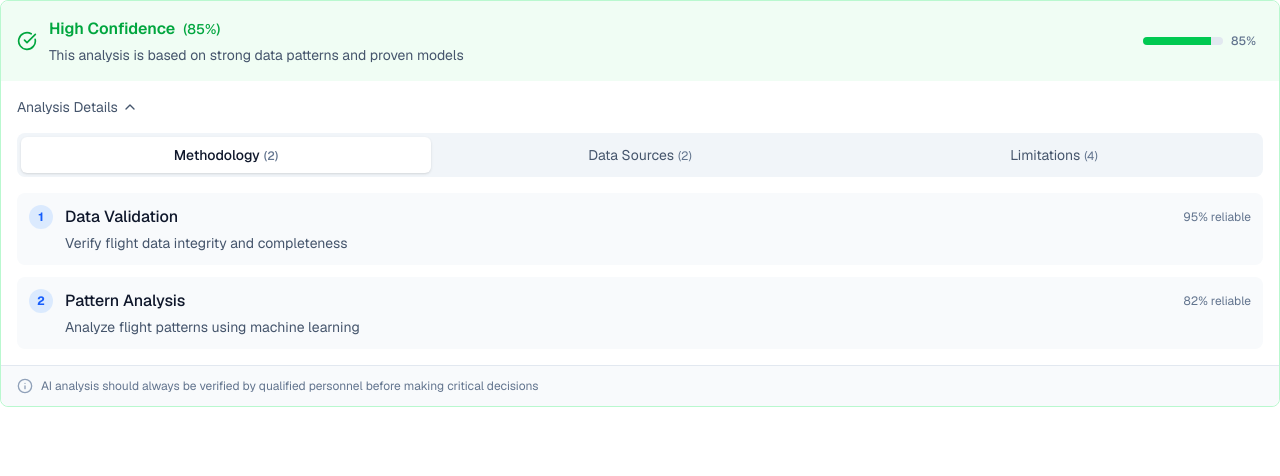
Test case: AiConfidenceIndicator › Tab Navigation › should switch between tabs correctly
Expected: the heading "Data Validation" is shown, [65, 205, 178, 229]
Note: Switch to data sources
Click the button "Data Sources(2)".
click(640, 155)  # box [435, 137, 845, 173]
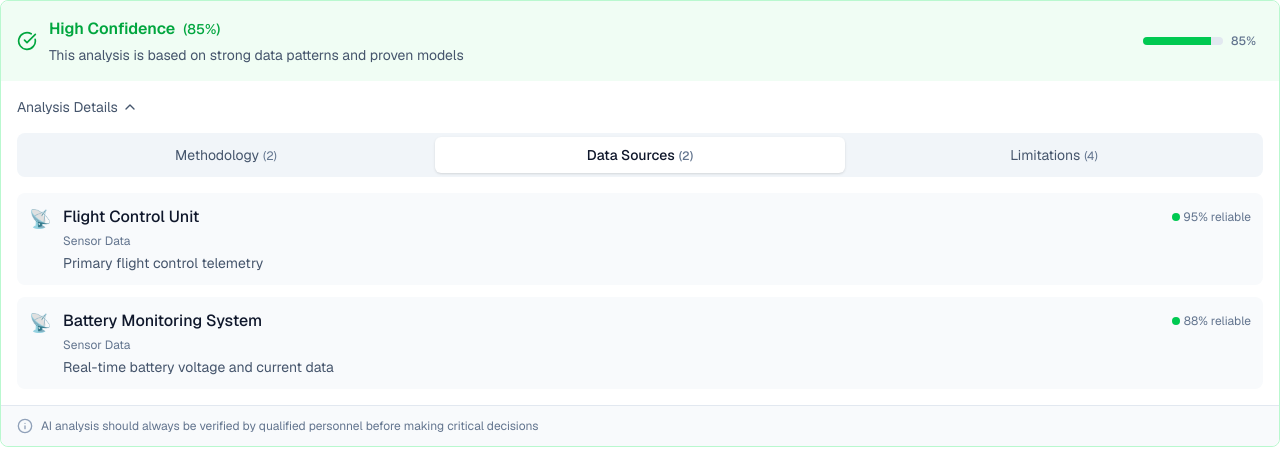
Now the heading "Flight Control Unit" is shown, box [63, 205, 199, 229]
Note: Switch to limitations
Click the button "Limitations(4)".
click(1054, 155)  # box [849, 137, 1259, 173]
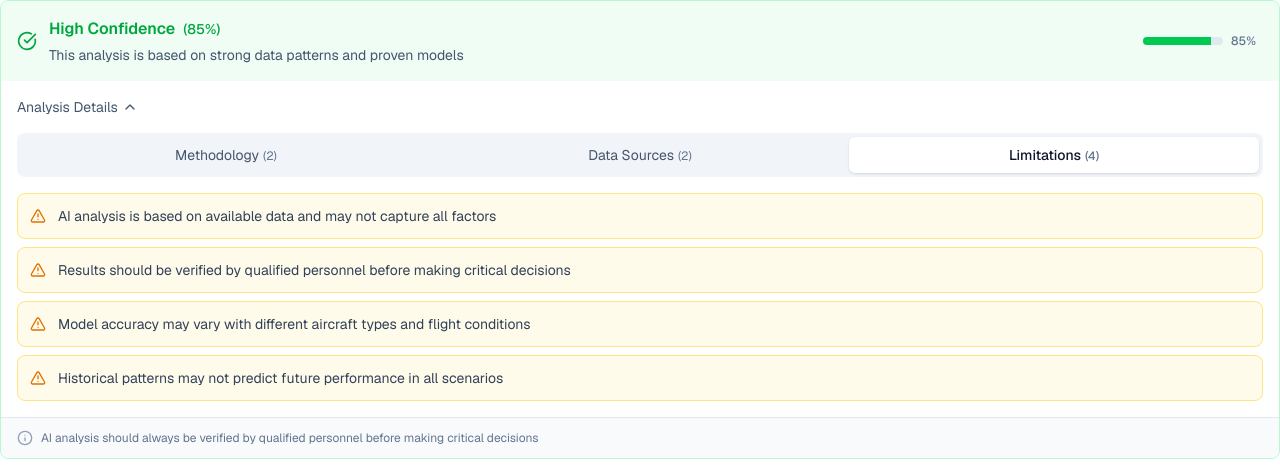
Now the text "AI analysis is based on available data" is shown, box [58, 207, 496, 225]
